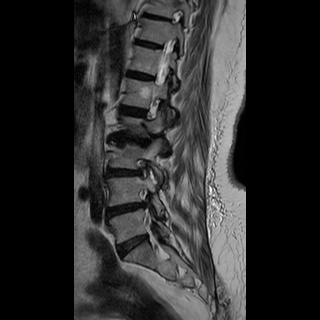RFS0: (139, 90, 166, 130)
RFS3: (130, 152, 156, 185)
